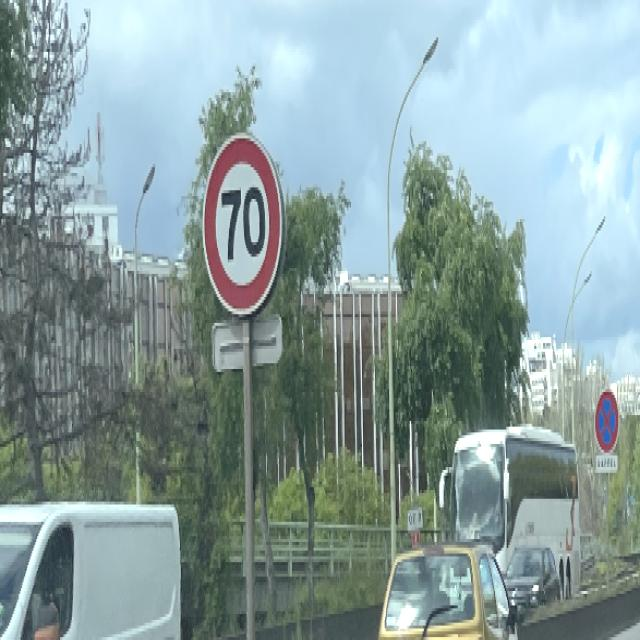speed_70: (201, 136, 285, 320)
